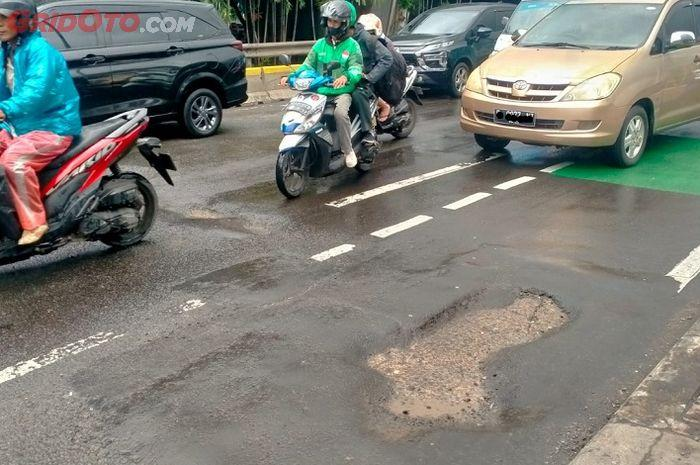Pothole: (308, 263, 587, 433)
